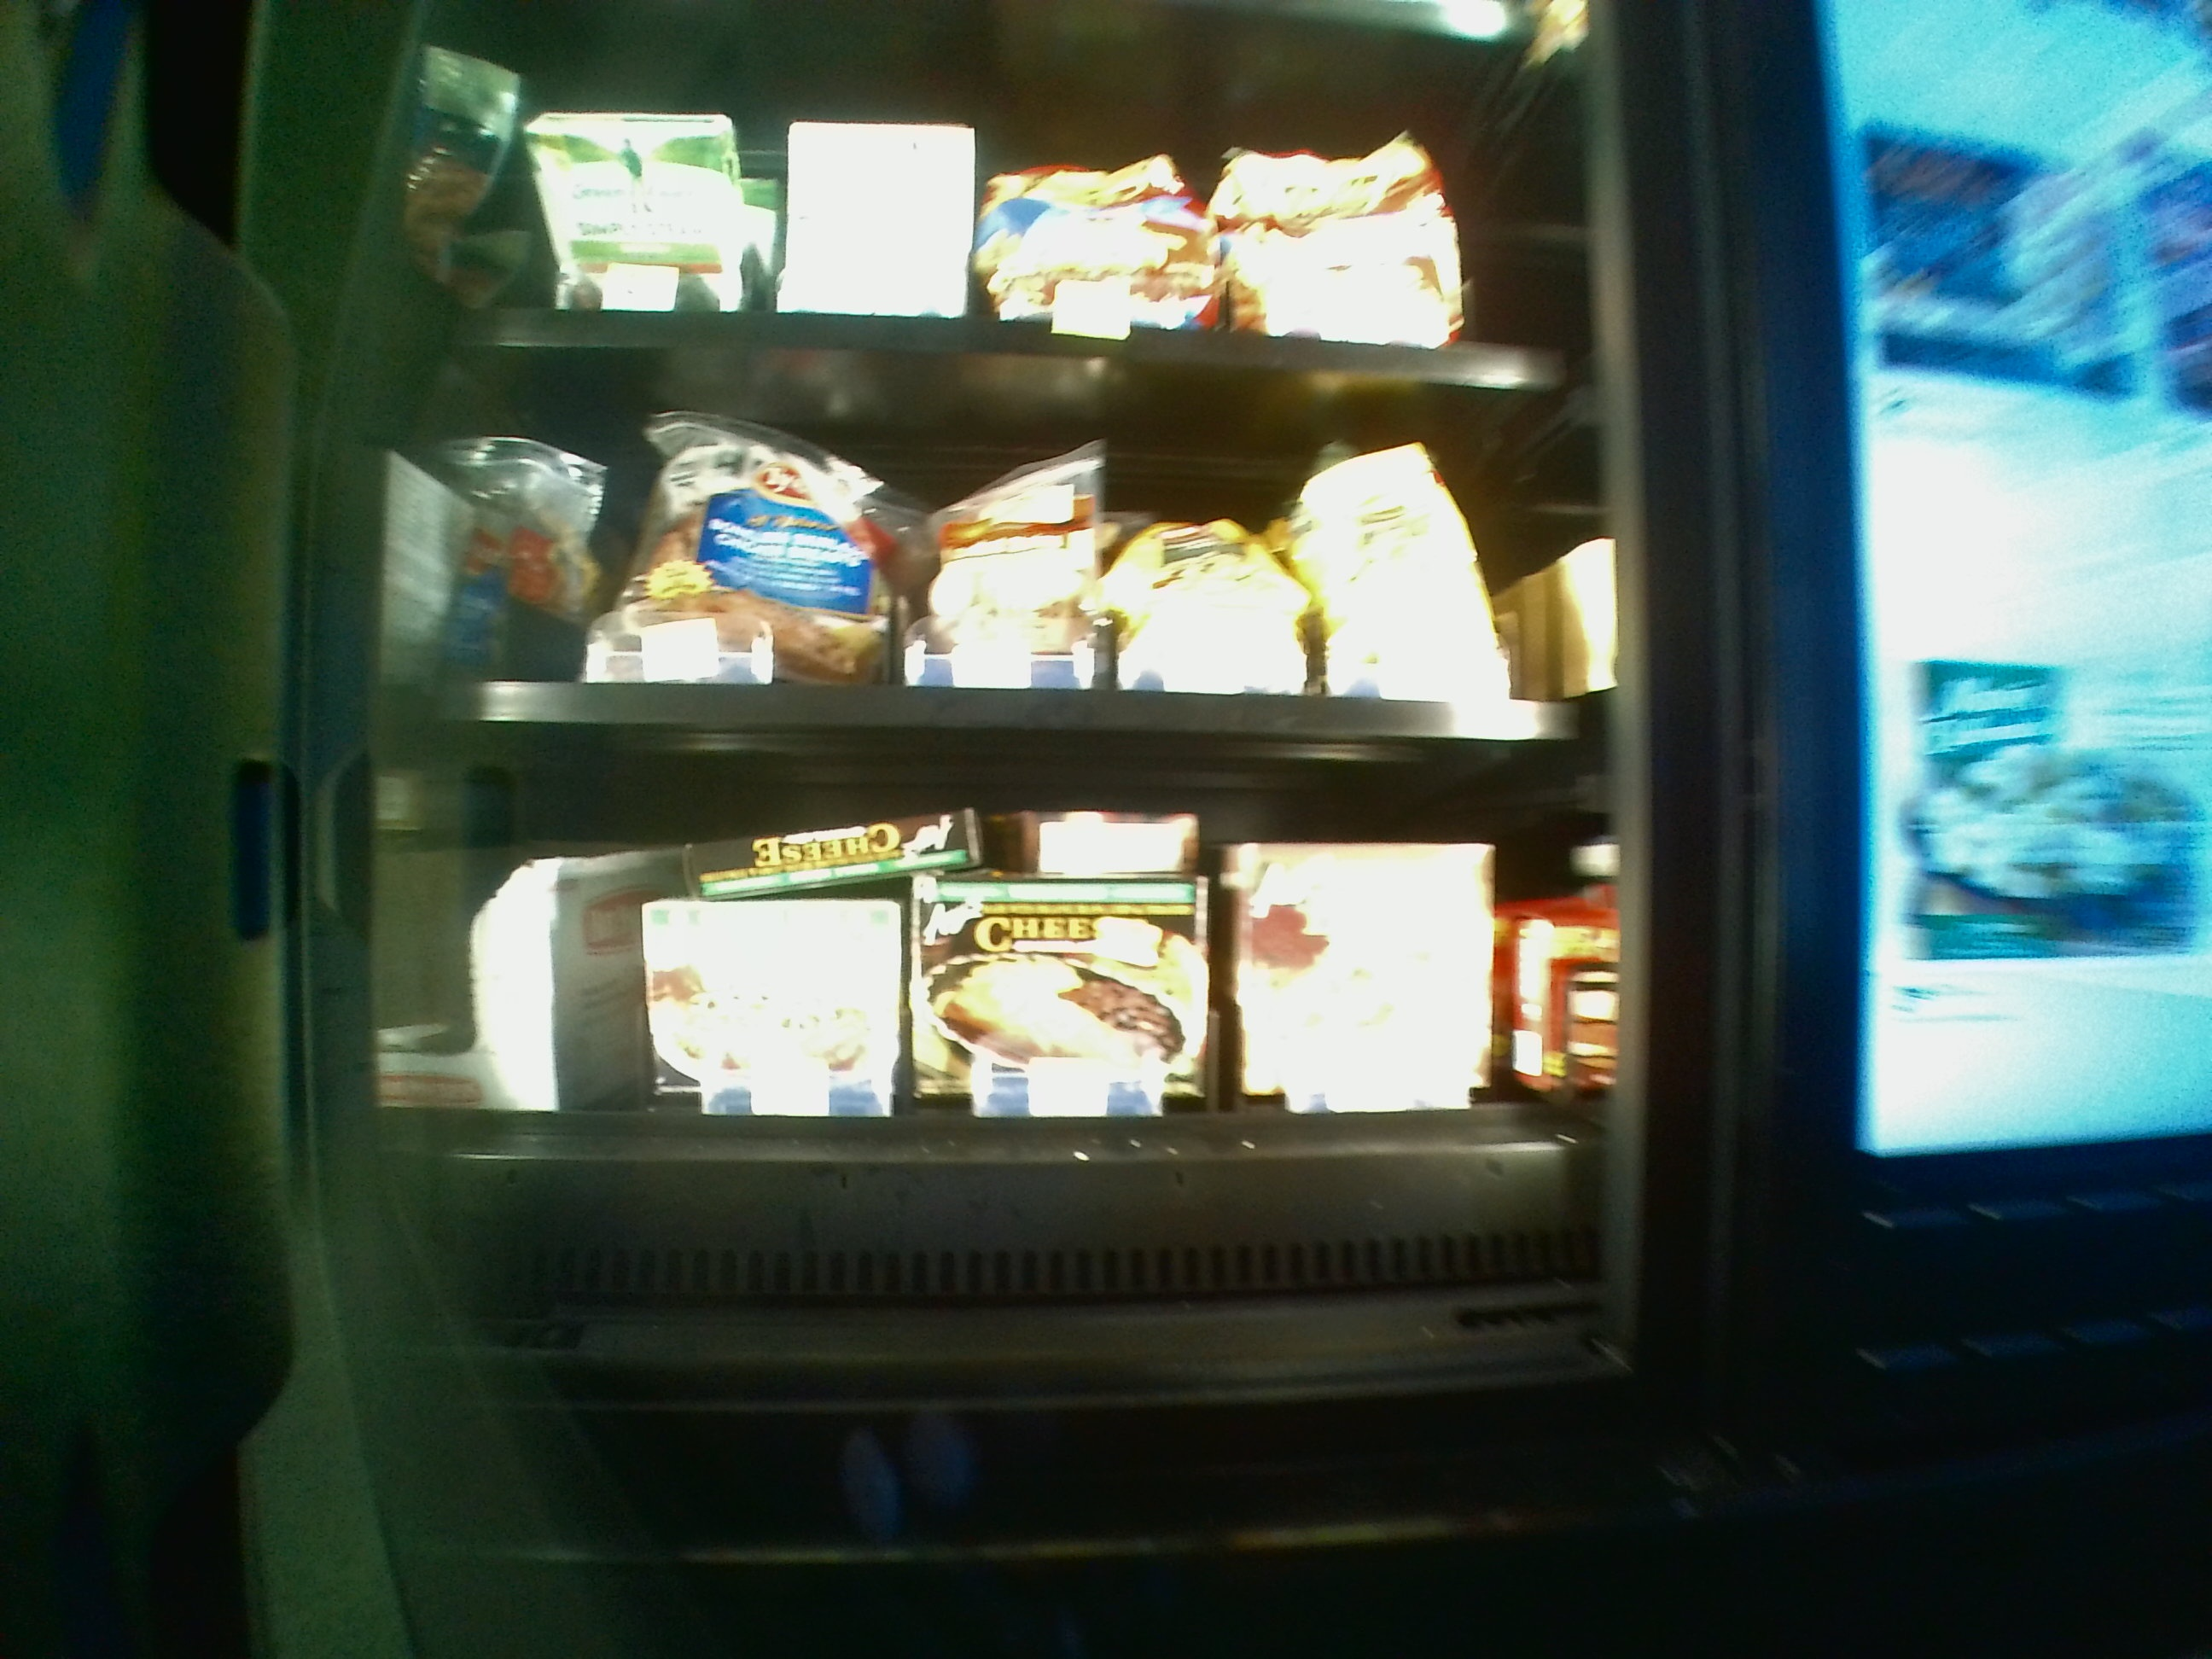shelf: (399, 742, 1616, 1354), (416, 347, 1599, 732)
